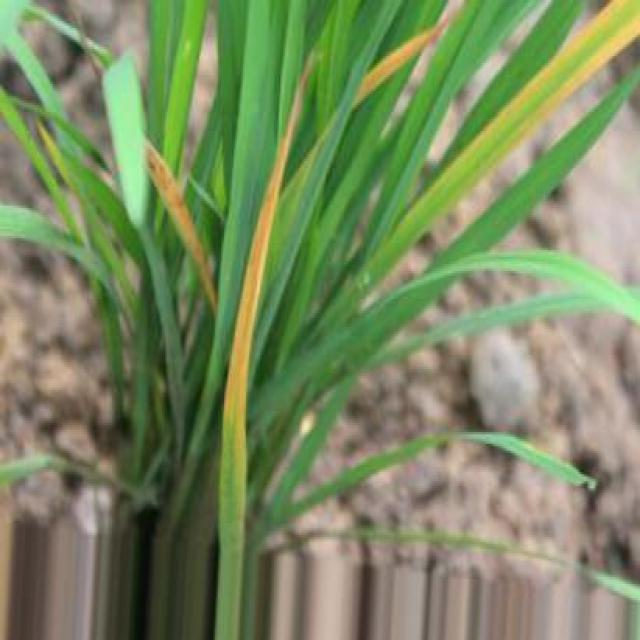Rice Tungro: (369, 1, 640, 277), (215, 60, 309, 638), (147, 141, 215, 310), (356, 20, 446, 106)
